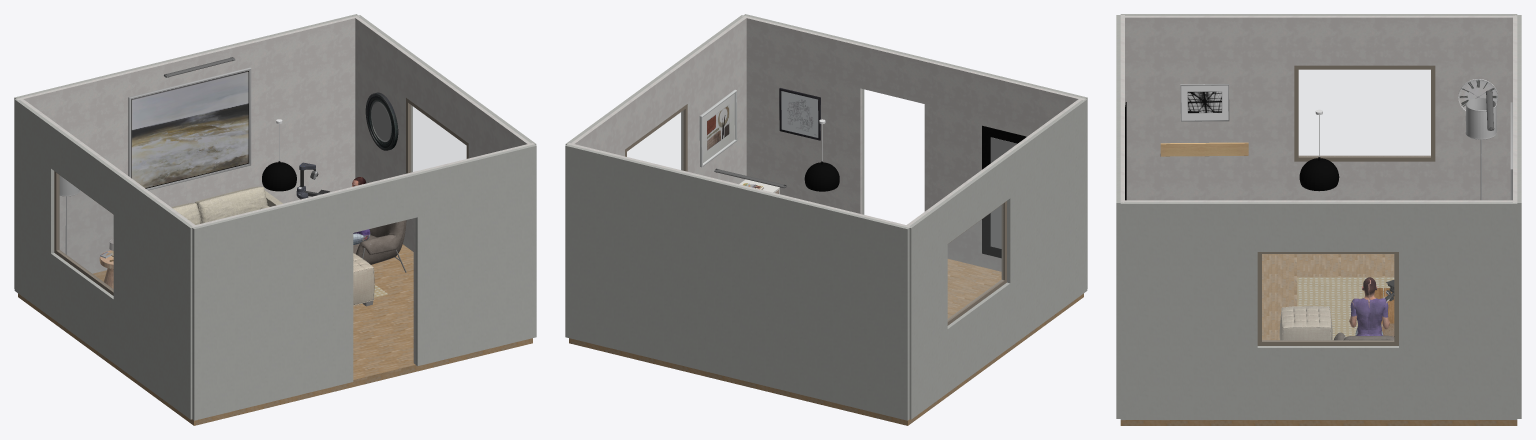
File: accept-before.glb
3 renders of one model, left to right at view 1: azimuth 30°, elevation 25°; view 2: azimuth 150°, elevation 25°; view 3: azimuth 270°, elevation 25°, orthographic. The views are drawn at different scales.
Visible parts, largest first — view 1: room__room_geometry_living_room__v4__0_0, room__room_geometry_living_room__v1__0_0, room__room_geometry_living_room__v10__0_0, room__living_room_painting_0__0_0, room__room_geometry_living_room__v5__0_0, room__room_geometry_living_room__v0__0_0, room__room_geometry_living_room__v9__0_0, room__room_geometry_living_room__v6__0_0, room__living_room_sofa_0__0_0, room__living_room_armchair_0__0_0, room__living_room_mirror_1__0_0, room__room_geometry_living_room__v3__0_0 (+7 smaller); view 2: room__room_geometry_living_room__v2__0_0, room__room_geometry_living_room__v3__0_0, room__room_geometry_living_room__v10__0_0, room__room_geometry_living_room__v5__0_0, room__room_geometry_living_room__v0__0_0, room__room_geometry_living_room__v9__0_0, room__living_room_art_print_0__0_0, room__living_room_mirror_0__0_0, room__room_geometry_living_room__v6__0_0, room__living_room_line_drawing_print_0__0_0, room__room_geometry_living_room__v4__0_0, room__living_room_pendant_light_0__0_0 (+5 smaller); view 3: room__room_geometry_living_room__v7__0_0, room__room_geometry_living_room__v8__0_0, room__room_geometry_living_room__v6__0_0, room__room_geometry_living_room__v9__0_0, room__room_geometry_living_room__v0__0_0, room__living_room_rug_0__0_0, room__room_geometry_living_room__v9__0_1, room__room_geometry_living_room__v2__0_0, room__room_geometry_living_room__v4__0_0, room__room_geometry_living_room__v6__0_1, room__living_room_photograph_0__0_0, room__living_room_ottoman_0__0_0 (+10 smaller).
Part boxes in pixels (<box>): room__room_geometry_living_room__v4__0_0: <box>192,144,536,420</box>; room__room_geometry_living_room__v1__0_0: <box>17,15,359,273</box>; room__room_geometry_living_room__v10__0_0: <box>14,99,192,419</box>; room__living_room_painting_0__0_0: <box>128,67,251,190</box>; room__room_geometry_living_room__v5__0_0: <box>354,16,530,251</box>; room__room_geometry_living_room__v0__0_0: <box>18,244,532,425</box>; room__room_geometry_living_room__v9__0_0: <box>58,175,113,289</box>; room__room_geometry_living_room__v6__0_0: <box>410,105,466,172</box>; room__living_room_sofa_0__0_0: <box>171,186,282,224</box>; room__living_room_armchair_0__0_0: <box>353,220,406,272</box>; room__living_room_mirror_1__0_0: <box>365,92,398,150</box>; room__room_geometry_living_room__v3__0_0: <box>192,143,533,364</box>; room__room_geometry_living_room__v2__0_0: <box>565,144,909,420</box>; room__room_geometry_living_room__v3__0_0: <box>742,15,1084,271</box>; room__room_geometry_living_room__v10__0_0: <box>909,99,1087,419</box>; room__room_geometry_living_room__v5__0_0: <box>570,17,746,184</box>; room__room_geometry_living_room__v0__0_0: <box>569,259,1083,425</box>; room__room_geometry_living_room__v9__0_0: <box>948,204,1002,319</box>; room__living_room_art_print_0__0_0: <box>699,89,737,167</box>; room__living_room_mirror_0__0_0: <box>982,125,1026,258</box>; room__room_geometry_living_room__v6__0_0: <box>627,111,683,170</box>; room__living_room_line_drawing_print_0__0_0: <box>779,88,820,140</box>; room__room_geometry_living_room__v4__0_0: <box>743,14,1087,288</box>; room__living_room_pendant_light_0__0_0: <box>804,119,839,191</box>; room__room_geometry_living_room__v7__0_0: <box>1120,202,1517,419</box>; room__room_geometry_living_room__v8__0_0: <box>1125,16,1517,200</box>; room__room_geometry_living_room__v6__0_0: <box>1262,254,1393,340</box>; room__room_geometry_living_room__v9__0_0: <box>1299,70,1430,156</box>; room__room_geometry_living_room__v0__0_0: <box>1120,254,1517,425</box>; room__living_room_rug_0__0_0: <box>1297,277,1394,340</box>; room__room_geometry_living_room__v9__0_1: <box>1294,65,1435,161</box>; room__room_geometry_living_room__v2__0_0: <box>1517,15,1521,418</box>; room__room_geometry_living_room__v4__0_0: <box>1116,15,1120,418</box>; room__room_geometry_living_room__v6__0_1: <box>1257,252,1398,345</box>; room__living_room_photograph_0__0_0: <box>1180,84,1229,121</box>; room__living_room_ottoman_0__0_0: <box>1279,306,1332,340</box>.
Bounding box in the file's own units: 5.1 × 2.8 × 4.6.
55 materials, 32 textured.
